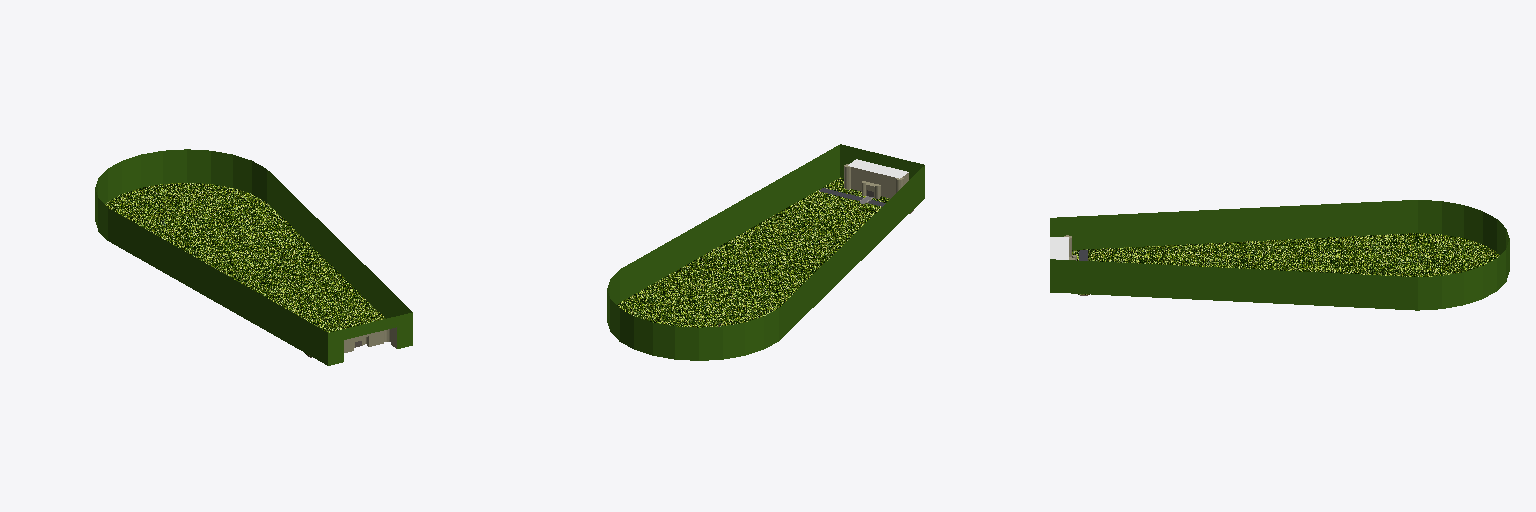
3 renders of one model, left to right at view 1: azimuth 30°, elevation 25°; view 2: azimuth 150°, elevation 25°; view 3: azimuth 270°, elevation 25°, orthographic.
Parts seen in each view (by area): view 1: okolje_Main-Material3, okolje_Main-Material2, okolje_Main-Stone_Coursed_Rough; view 2: okolje_Main-Material3, okolje_Main-Material2, okolje_Main-Stone_Coursed_Rough; view 3: okolje_Main-Material3, okolje_Main-Material2.
Boxes of the visible parts, <box> form: okolje_Main-Material3: <box>95,149,412,365</box>; okolje_Main-Material2: <box>105,183,385,356</box>; okolje_Main-Stone_Coursed_Rough: <box>344,327,396,352</box>; okolje_Main-Material3: <box>607,144,924,360</box>; okolje_Main-Material2: <box>617,177,889,327</box>; okolje_Main-Stone_Coursed_Rough: <box>844,164,908,198</box>; okolje_Main-Material3: <box>1050,200,1509,310</box>; okolje_Main-Material2: <box>1072,233,1499,294</box>.
Size of the model in its own units: 150 by 31.5 by 375.
Materials: 11 (2 with a texture image).